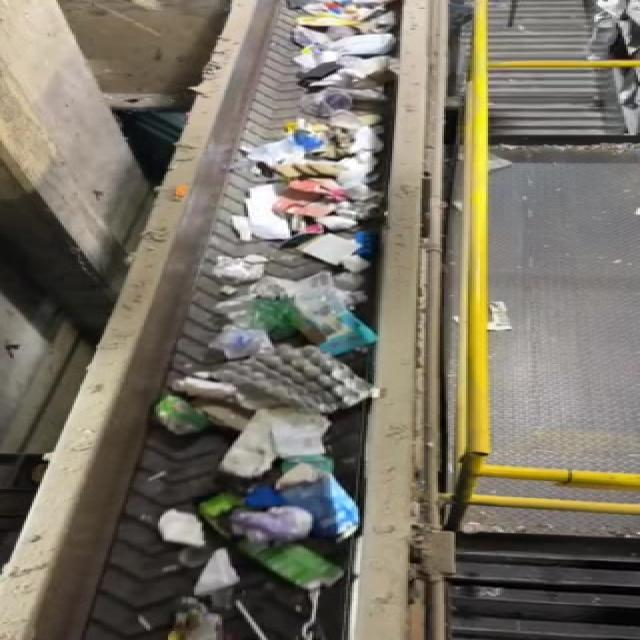paper: (234, 402, 354, 484), (188, 554, 252, 601), (145, 509, 216, 551)
pp: (268, 472, 378, 544), (144, 384, 216, 443)
